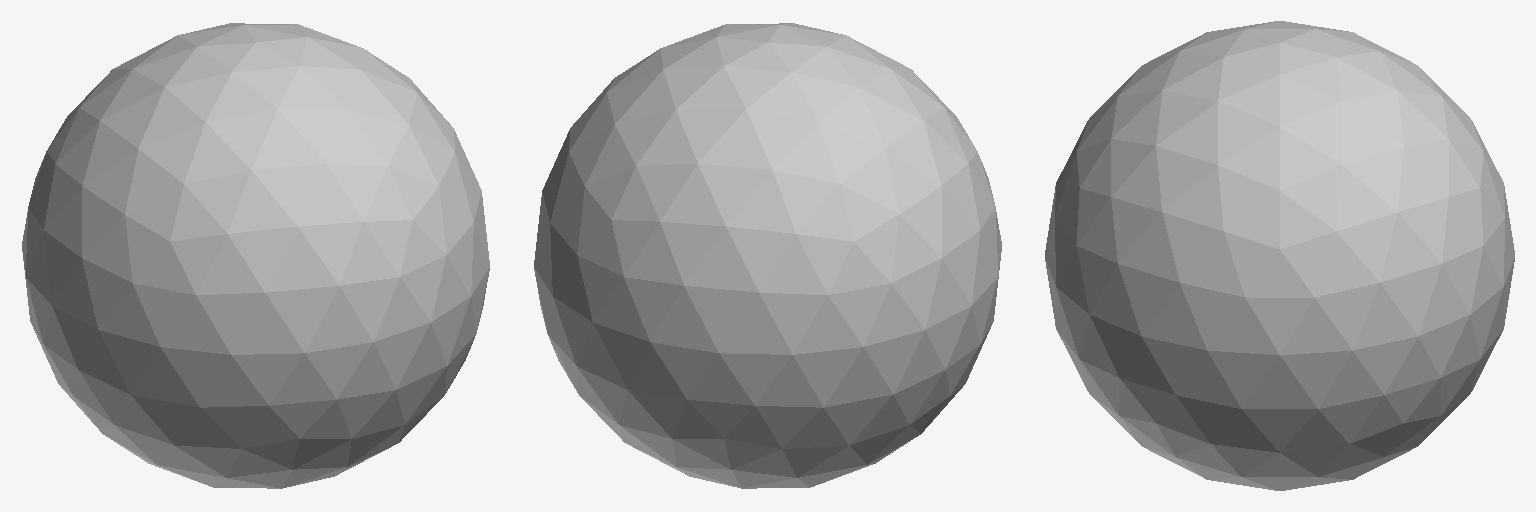
The model's file is bola.obj.
3 renders of one model, left to right at view 1: azimuth 30°, elevation 25°; view 2: azimuth 150°, elevation 25°; view 3: azimuth 270°, elevation 25°, orthographic.
Parts seen in each view (by area): view 1: esfera_mesh; view 2: esfera_mesh; view 3: esfera_mesh.
Part boxes in pixels (x1,y1,x2,y2): esfera_mesh: (22, 23, 489, 488); esfera_mesh: (534, 23, 1001, 488); esfera_mesh: (1045, 21, 1514, 490).
Size of the model in its own units: 0.0301 by 0.0301 by 0.0301.